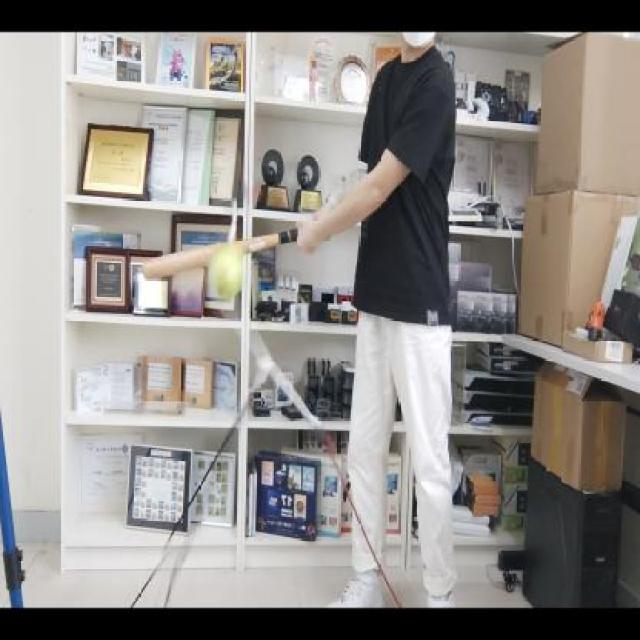baseball: (206, 242, 248, 307)
